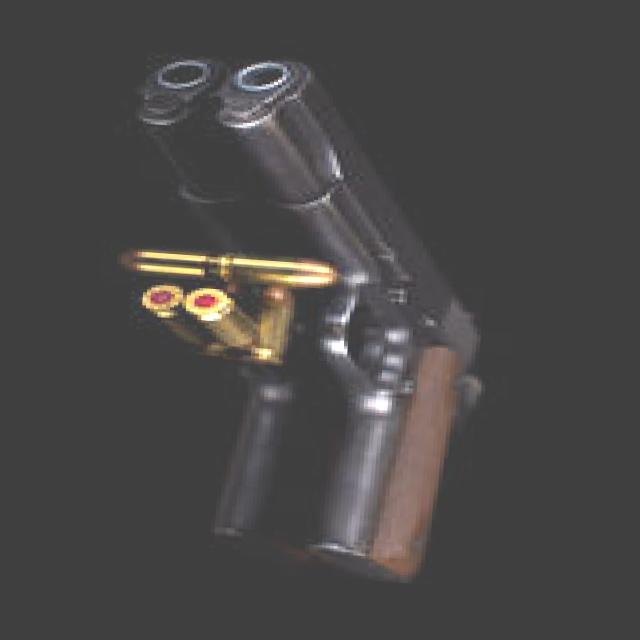handgun: (182, 54, 514, 590)
